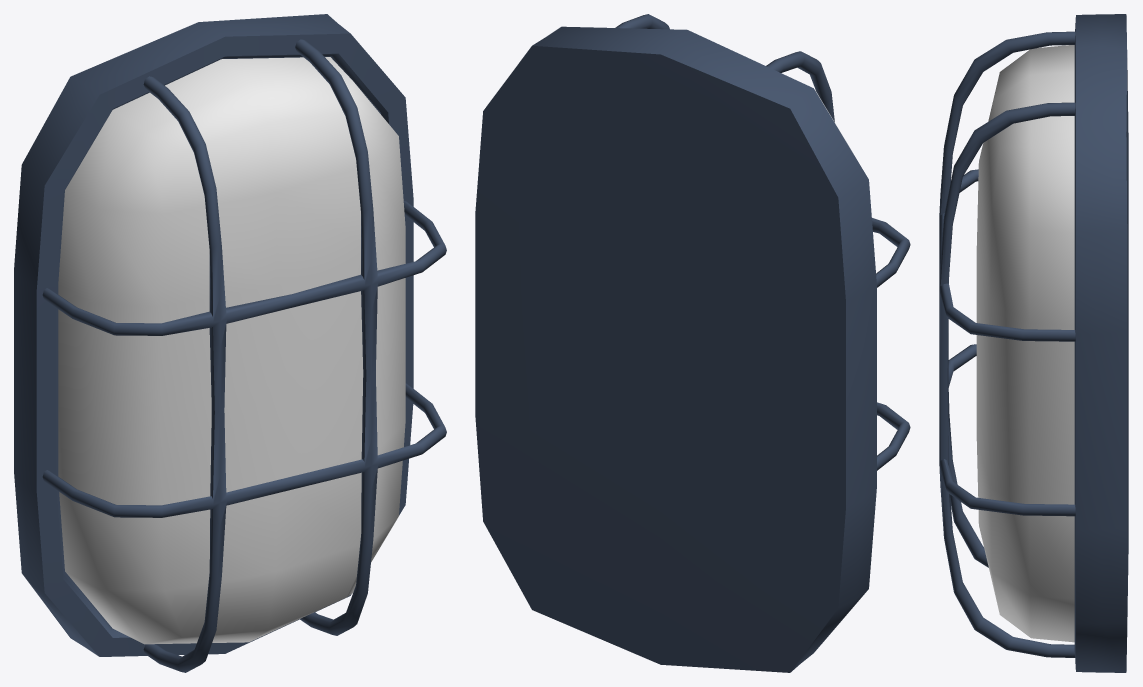
The model's file is stair light.fbx.
3 views of the same model, side by side, from view 1: azimuth 30°, elevation 25°; view 2: azimuth 150°, elevation 25°; view 3: azimuth 270°, elevation 25° (orthographic). The views are drawn at different scales.
Visible parts, largest first — view 1: stair light; view 2: stair light; view 3: stair light.
Part boxes in pixels (x1,y1,x2,y2): stair light: [14, 14, 446, 672]; stair light: [475, 14, 910, 672]; stair light: [939, 14, 1128, 672].
Bounding box in the file's own units: 27.12 × 42.42 × 12.27.
